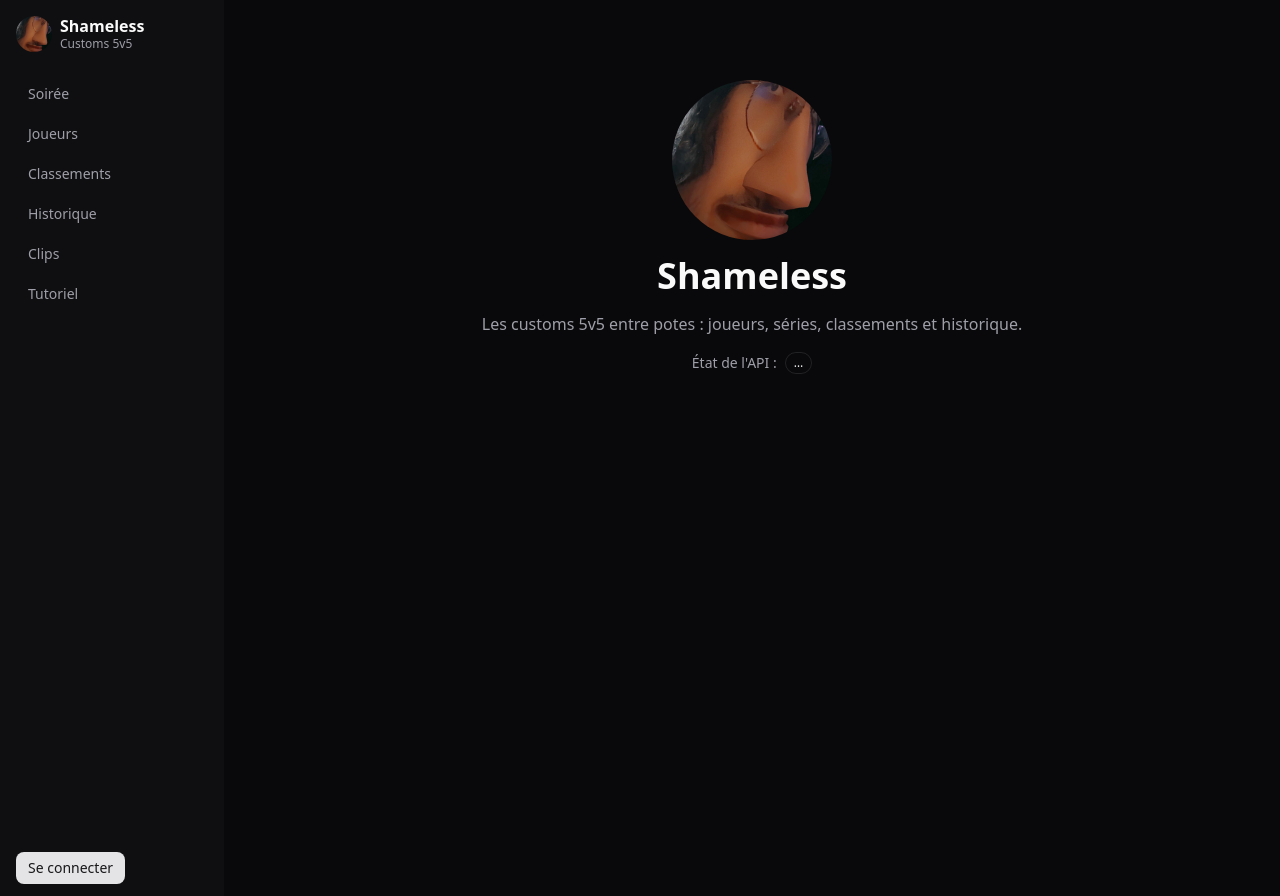
it: Tutoriel › s'ouvre sans connexion depuis la barre latérale
The image size is (1280, 896).
Click the link "Tutoriel" at (53, 294), box [28,284,78,303]
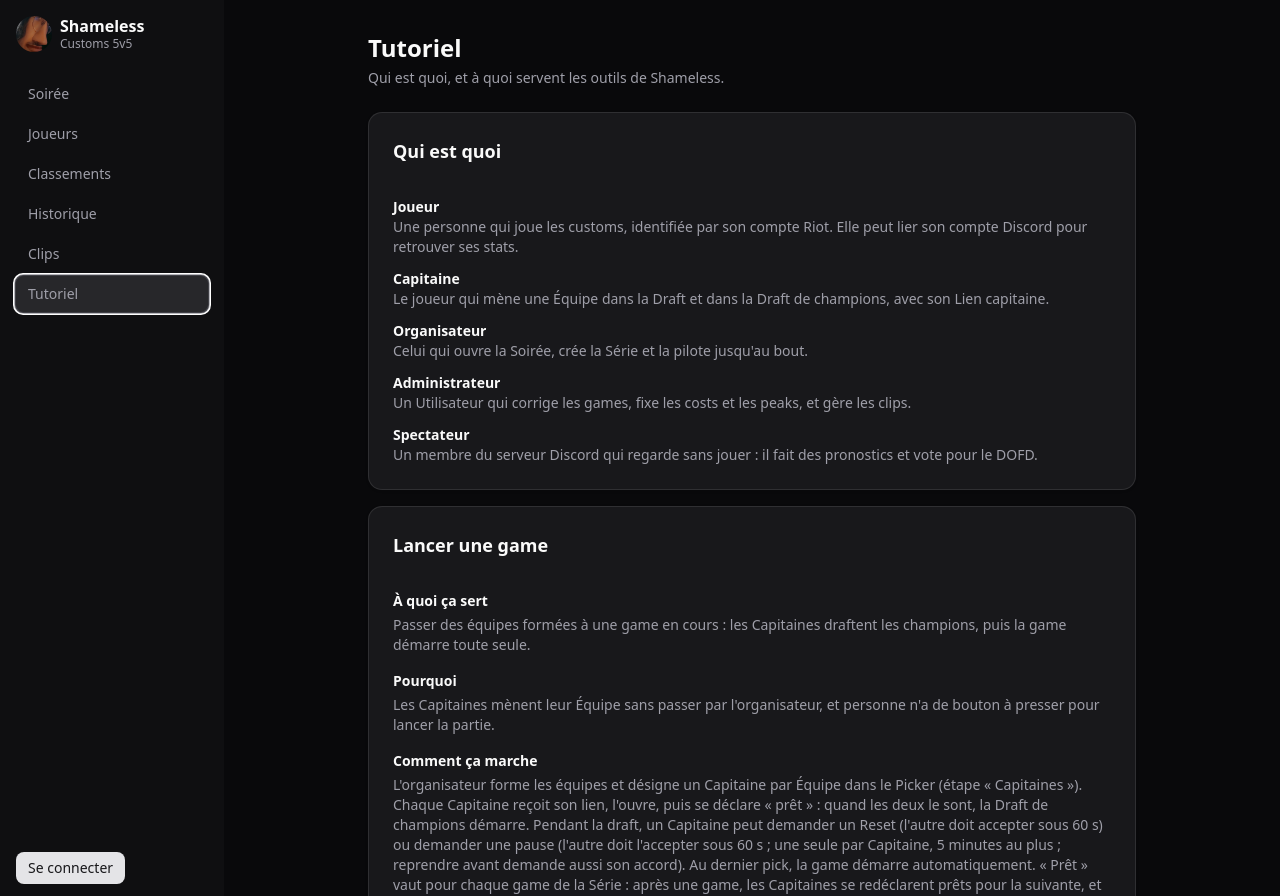
Expected: the heading "Tutoriel" is shown, [368,31,462,64]
